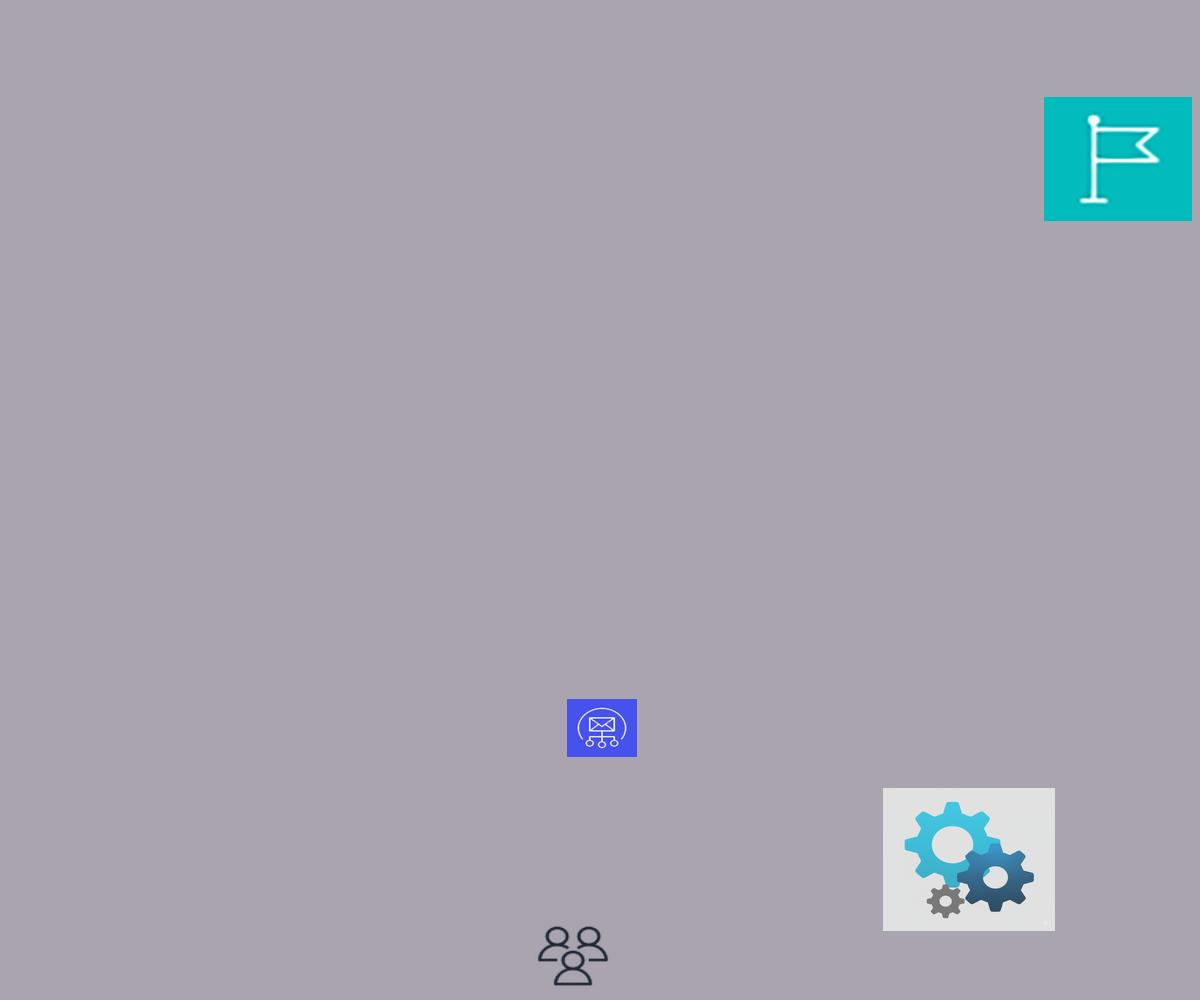AWS-Region: (1044, 97, 1192, 221)
AWS-Res_Users: (535, 924, 611, 988)
AWS-Simple-Email-Service: (567, 699, 637, 757)
Azure_api: (883, 788, 1055, 931)
